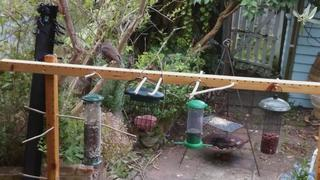starling: (101, 39, 125, 68)
